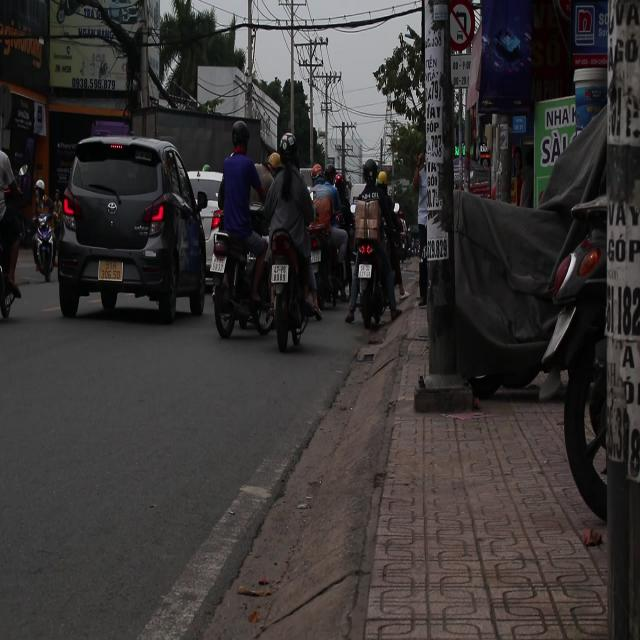car: (56, 136, 208, 322), (187, 169, 224, 232)
motorbike: (210, 222, 270, 342), (263, 232, 314, 354), (352, 231, 396, 331), (34, 208, 60, 280)
truck: (129, 104, 267, 210)
